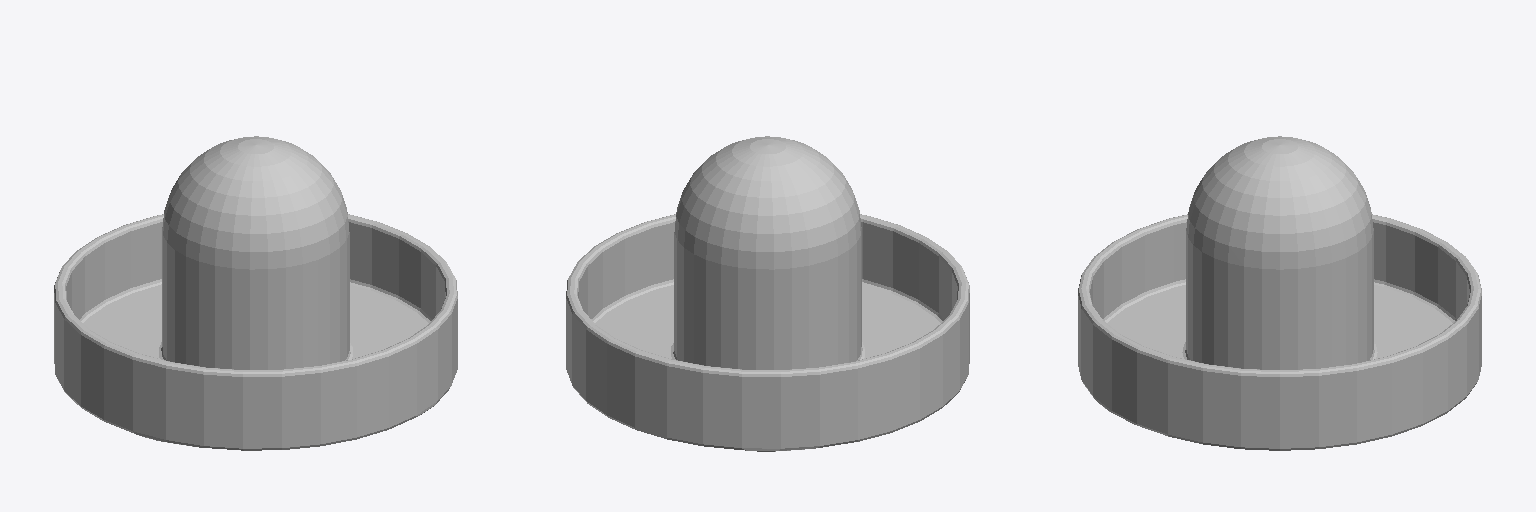
The model's file is handle1.obj.
3 renders of one model, left to right at view 1: azimuth 30°, elevation 25°; view 2: azimuth 150°, elevation 25°; view 3: azimuth 270°, elevation 25°, orthographic.
Visible parts, largest first — view 1: Handle1; view 2: Handle1; view 3: Handle1.
Part boxes in pixels (bbox=[...]): Handle1: bbox=[54, 136, 457, 450]; Handle1: bbox=[566, 136, 969, 451]; Handle1: bbox=[1078, 136, 1481, 450].
Size of the model in its own units: 0.1411 by 0.0853 by 0.1411.